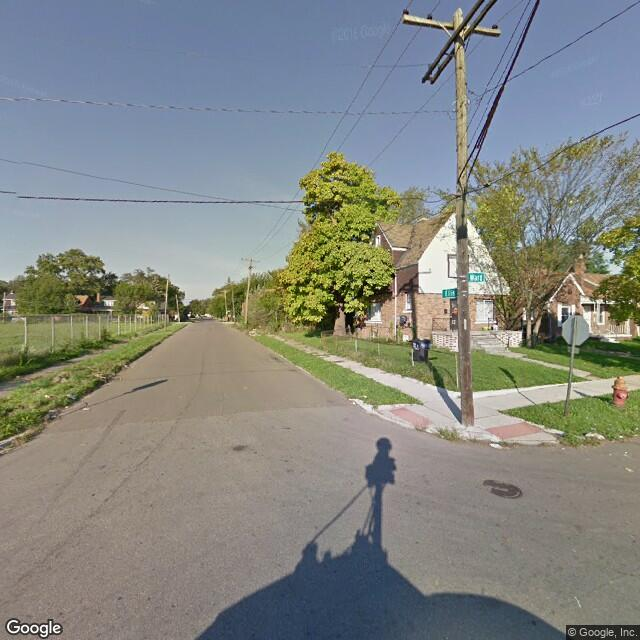litter: (39, 391, 55, 402)
